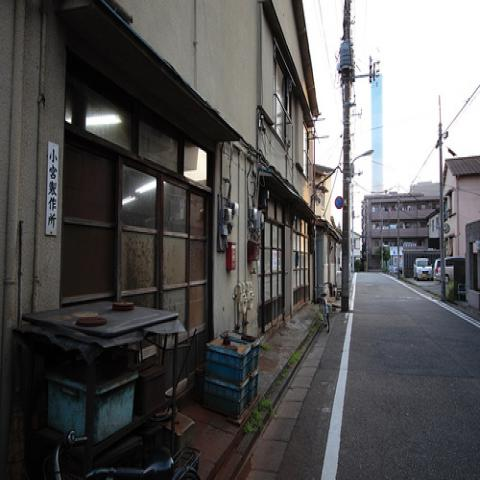car: (414, 258, 434, 282), (445, 256, 456, 282), (433, 259, 444, 281)
